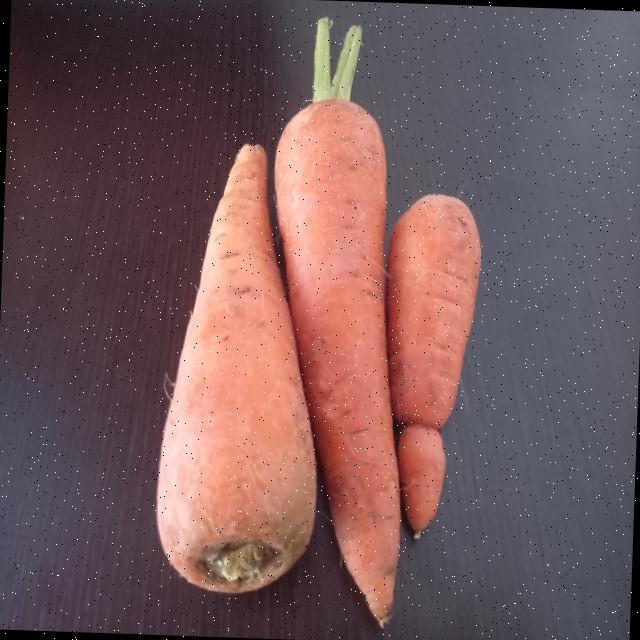carrot: (157, 144, 316, 592), (274, 98, 400, 622), (386, 194, 480, 537)
